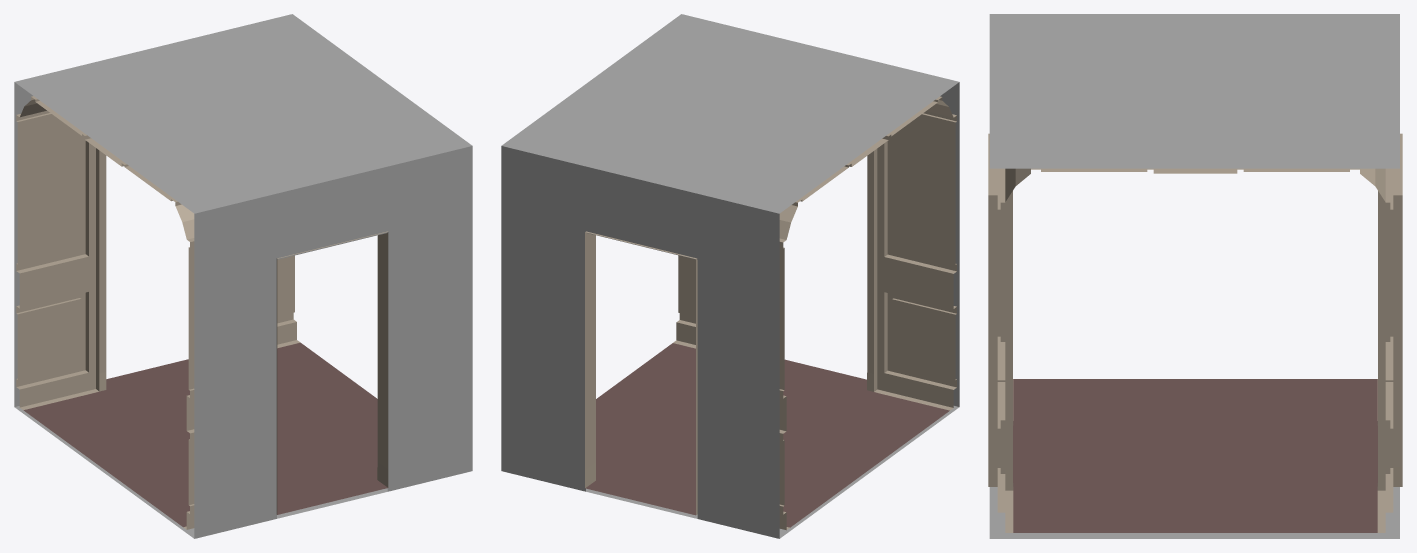
File: Corridor_Door_Section_Mesh.fbx
3 views of the same model, side by side, from view 1: azimuth 30°, elevation 25°; view 2: azimuth 150°, elevation 25°; view 3: azimuth 270°, elevation 25° (orthographic). The views are drawn at different scales.
Parts seen in each view (by area): view 1: polySurface14; view 2: polySurface14; view 3: polySurface14.
Boxes of the visible parts, x1,y1,x2,y2 form: polySurface14: (14, 14, 472, 538); polySurface14: (501, 14, 959, 538); polySurface14: (988, 14, 1402, 538).
Size of the model in its own units: 231 by 258 by 261.
